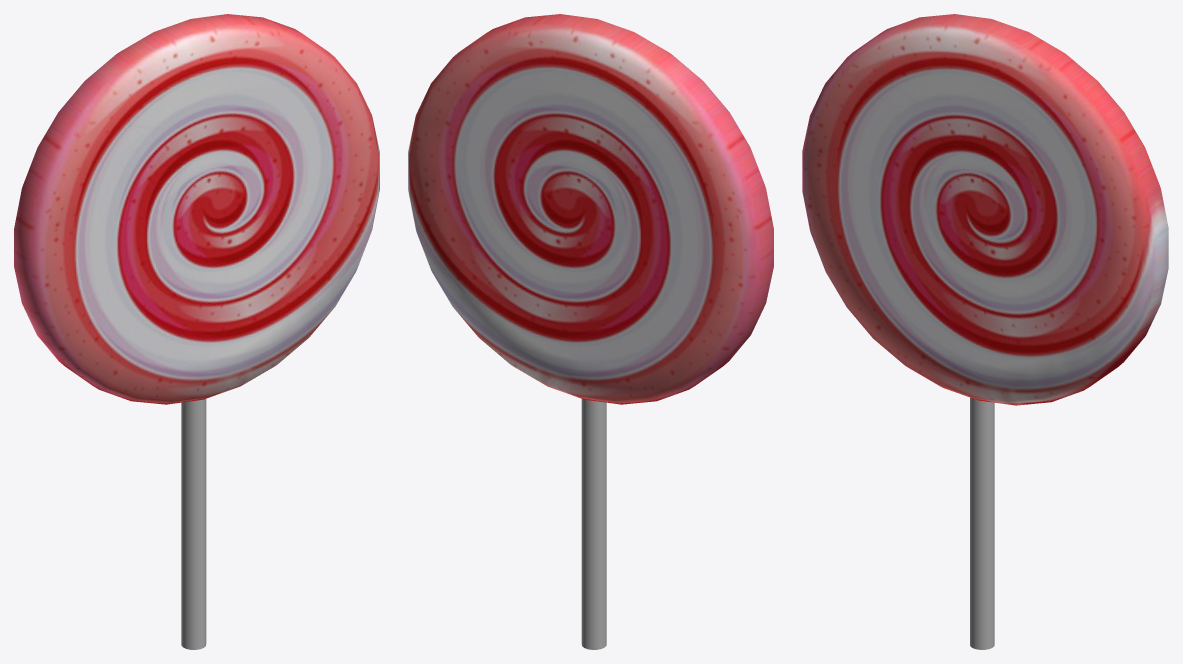
The model's file is PaletaPiruetaRojo.obj.
3 renders of one model, left to right at view 1: azimuth 30°, elevation 25°; view 2: azimuth 150°, elevation 25°; view 3: azimuth 330°, elevation 25°, orthographic.
Parts seen in each view (by area): view 1: Circle_Circle.002, Cylinder; view 2: Circle_Circle.002, Cylinder; view 3: Circle_Circle.002, Cylinder.
Boxes of the visible parts, box(x1,y1,x2,y2) form: Circle_Circle.002: box(14, 14, 379, 404); Cylinder: box(181, 399, 206, 649); Circle_Circle.002: box(408, 14, 773, 404); Cylinder: box(581, 399, 606, 649); Circle_Circle.002: box(802, 14, 1168, 405); Cylinder: box(970, 397, 994, 649).
Size of the model in its own units: 6.51 by 10.91 by 0.8009.
Materials: 2 (2 with a texture image).
